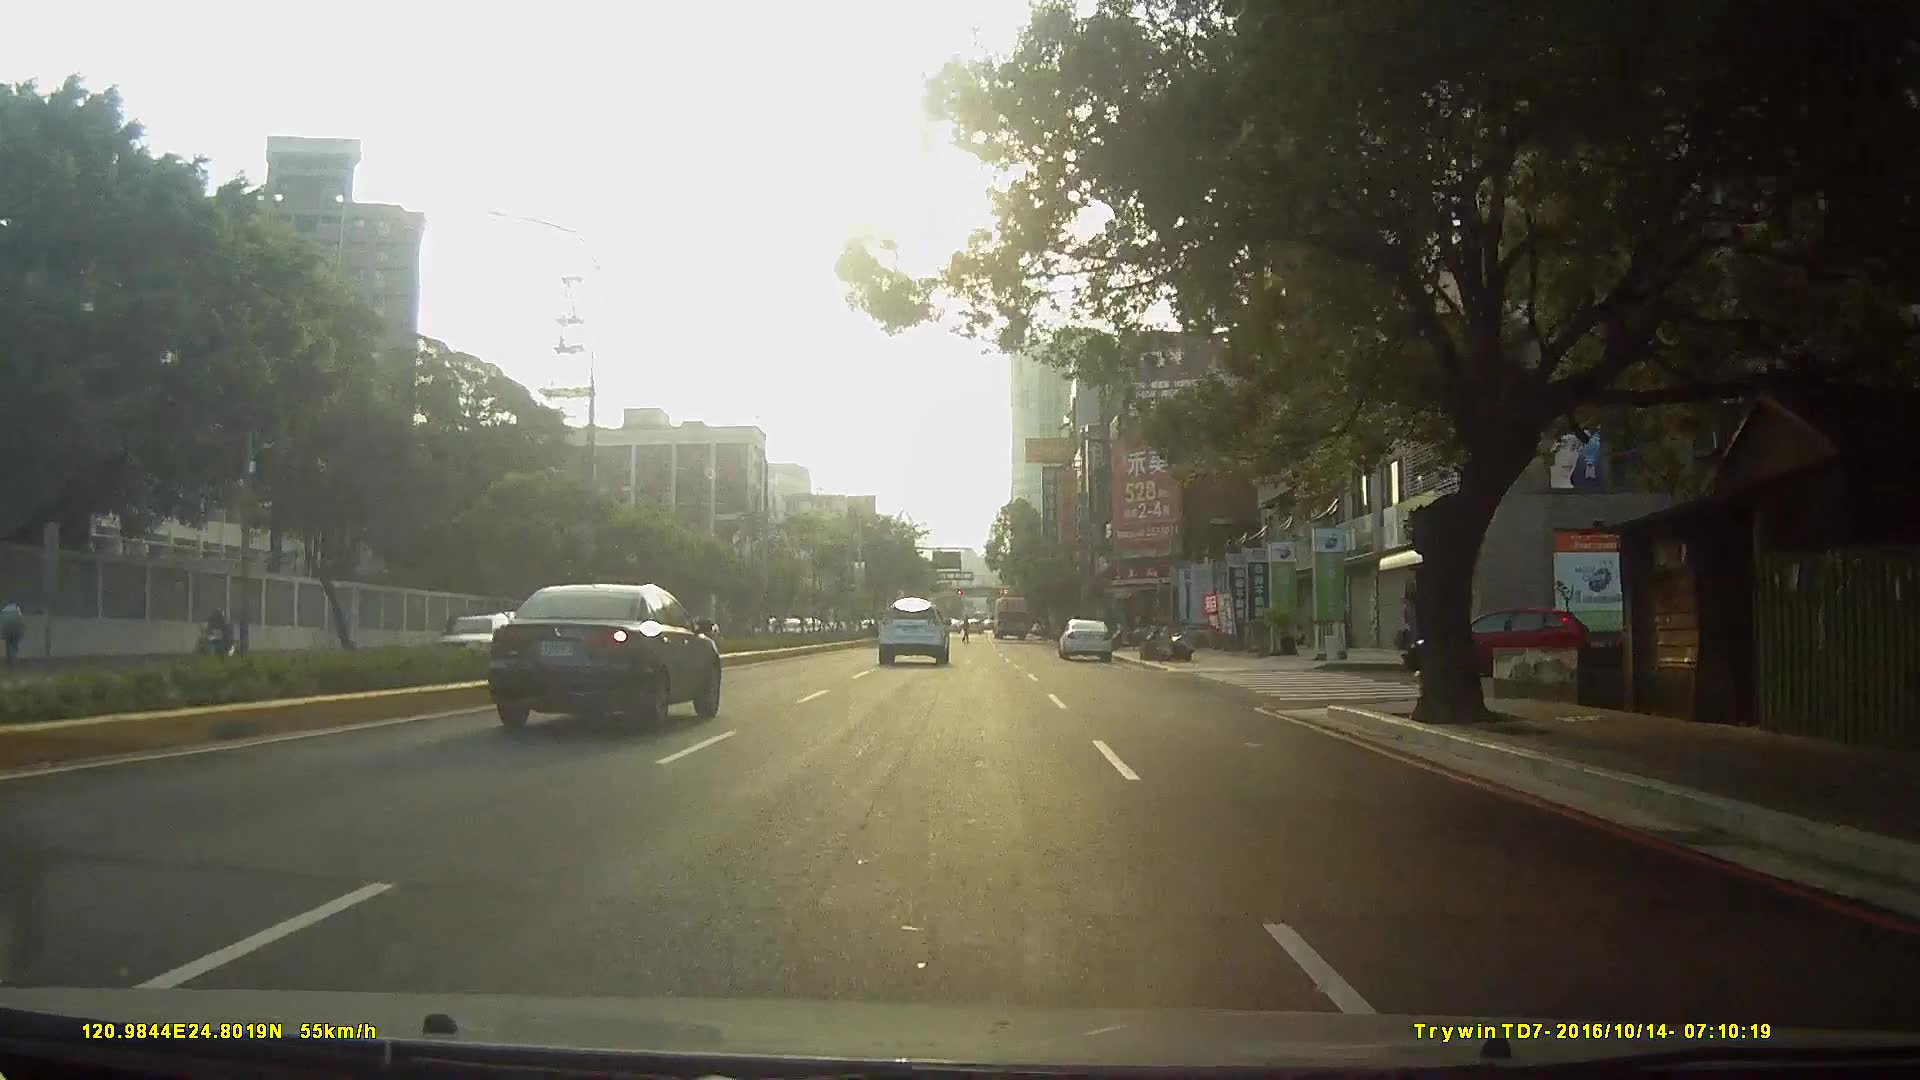pedestrian: (1, 598, 28, 670)
rider: (195, 609, 239, 672)
vehicle: (488, 583, 725, 732), (1407, 600, 1607, 685), (430, 616, 533, 674), (876, 599, 949, 668), (1056, 619, 1116, 663), (988, 596, 1032, 643)
